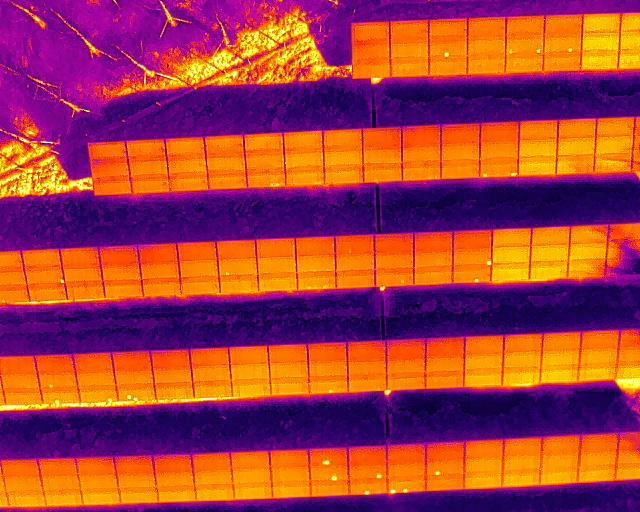Cell: (428, 36, 467, 57), (542, 35, 582, 53), (23, 267, 65, 284), (218, 259, 258, 276), (308, 449, 348, 466), (451, 250, 493, 266), (452, 266, 491, 283), (37, 371, 77, 387), (426, 460, 465, 476), (348, 463, 387, 479), (309, 376, 348, 392), (309, 466, 349, 481), (374, 270, 414, 285), (79, 385, 117, 400), (41, 388, 80, 402), (349, 480, 387, 494)
Cell-Multi: (505, 36, 544, 55), (297, 273, 336, 290), (480, 162, 518, 178), (117, 385, 157, 400), (387, 477, 425, 492), (246, 175, 286, 187)
No-Anomaly: (517, 140, 558, 164), (295, 236, 336, 257), (556, 139, 596, 160), (205, 155, 246, 175), (581, 13, 622, 33), (439, 126, 480, 146), (138, 243, 177, 264), (99, 245, 138, 266), (361, 130, 400, 151), (324, 151, 364, 171), (530, 226, 570, 246), (334, 234, 374, 254), (504, 15, 544, 35), (176, 242, 216, 262), (480, 123, 520, 143), (452, 230, 494, 249), (127, 141, 166, 161), (363, 150, 402, 170), (284, 152, 323, 172), (543, 14, 582, 34), (401, 129, 440, 149), (204, 136, 245, 155), (593, 137, 634, 156), (373, 233, 414, 252), (21, 249, 62, 268), (465, 55, 506, 74), (245, 155, 285, 174), (413, 232, 453, 251), (216, 240, 256, 259), (466, 17, 506, 36), (257, 257, 297, 276), (580, 33, 620, 52), (245, 135, 285, 154), (425, 336, 465, 355), (438, 147, 480, 165), (254, 239, 296, 257), (479, 143, 518, 162), (167, 157, 206, 176), (61, 248, 100, 267), (467, 36, 506, 55), (596, 118, 635, 137), (557, 120, 596, 139), (519, 123, 558, 142), (285, 133, 324, 152), (353, 58, 390, 78), (491, 229, 532, 247), (389, 39, 430, 57), (166, 140, 204, 159), (401, 149, 439, 168), (192, 452, 230, 471), (491, 247, 531, 265), (529, 261, 569, 279), (230, 451, 270, 469), (271, 481, 311, 499), (579, 53, 619, 71), (426, 57, 466, 75), (389, 58, 429, 76), (323, 133, 363, 151), (347, 340, 387, 358), (334, 254, 376, 271), (176, 261, 218, 278), (268, 450, 310, 467), (567, 260, 606, 278), (348, 446, 387, 464), (153, 455, 192, 473), (76, 457, 115, 475), (542, 54, 581, 72), (504, 55, 543, 73), (336, 271, 375, 289), (268, 343, 307, 361), (128, 161, 169, 178), (579, 434, 620, 451), (139, 263, 180, 280), (217, 276, 258, 293), (424, 354, 465, 371), (0, 388, 43, 404), (352, 40, 390, 58), (142, 279, 180, 297), (295, 256, 335, 273), (464, 470, 504, 487), (115, 473, 155, 490), (309, 480, 349, 497), (464, 335, 504, 352), (150, 348, 190, 365), (230, 362, 270, 379), (191, 364, 231, 381), (566, 244, 608, 260), (93, 177, 130, 195), (129, 177, 168, 194), (414, 251, 453, 268), (428, 18, 467, 35), (425, 443, 464, 460), (115, 457, 154, 474), (502, 468, 541, 485), (389, 21, 428, 38), (308, 342, 347, 359), (230, 345, 269, 362), (73, 352, 112, 369), (529, 246, 570, 262), (386, 445, 427, 461), (63, 267, 104, 283), (151, 366, 192, 382), (88, 143, 126, 160), (38, 458, 76, 475), (1, 459, 39, 476), (101, 264, 139, 281), (67, 283, 105, 300), (580, 332, 618, 349), (542, 333, 580, 350), (503, 334, 541, 351), (387, 340, 425, 357), (36, 354, 74, 371), (0, 370, 38, 387), (169, 177, 209, 193), (540, 436, 580, 452), (502, 453, 542, 469), (179, 278, 219, 294), (103, 282, 143, 298), (189, 348, 229, 364), (346, 358, 386, 374), (307, 359, 347, 375), (268, 361, 308, 377), (114, 368, 154, 384), (386, 373, 426, 389), (192, 380, 232, 396), (492, 264, 529, 281), (540, 364, 577, 381), (540, 468, 579, 484), (194, 483, 233, 499), (119, 487, 158, 503), (27, 284, 66, 300), (540, 349, 579, 365), (386, 357, 425, 373), (75, 369, 114, 385), (464, 369, 503, 385), (270, 378, 309, 394), (373, 254, 414, 269), (579, 451, 620, 466), (412, 269, 453, 284), (579, 466, 617, 482), (352, 23, 390, 39), (464, 353, 502, 369), (232, 379, 270, 395), (440, 164, 480, 179), (111, 352, 151, 367), (424, 371, 464, 386), (542, 451, 579, 467), (556, 160, 595, 175), (208, 175, 247, 190), (503, 438, 542, 453), (464, 440, 503, 455), (464, 456, 503, 471), (78, 475, 117, 490), (4, 476, 43, 491), (233, 483, 272, 498), (579, 349, 618, 364), (502, 351, 541, 366), (502, 367, 541, 382), (92, 161, 128, 177), (0, 355, 36, 371), (256, 276, 297, 290), (157, 485, 195, 500), (387, 463, 427, 477), (41, 491, 81, 505), (347, 374, 387, 388), (324, 170, 363, 184), (272, 467, 311, 481), (231, 468, 270, 482), (156, 470, 195, 484), (40, 476, 79, 490), (81, 490, 120, 504), (154, 383, 193, 397), (363, 170, 401, 184), (578, 365, 616, 379), (193, 471, 233, 484), (287, 172, 325, 185), (426, 476, 463, 489), (8, 492, 45, 505), (518, 164, 557, 176), (402, 169, 439, 181)
Shadowing: (593, 153, 633, 173), (569, 225, 609, 243)
